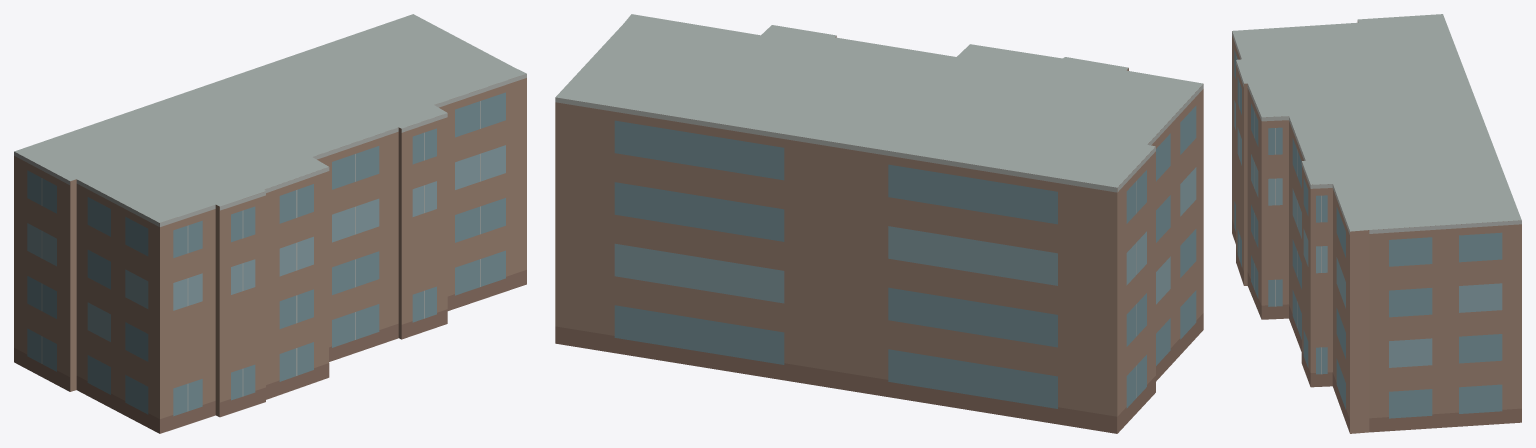
Rendered from survey-upis-32597155.glb.
3 renders of one model, left to right at view 1: azimuth 30°, elevation 25°; view 2: azimuth 150°, elevation 25°; view 3: azimuth 270°, elevation 25°, orthographic. The views are drawn at different scales.
Visible parts, largest first — view 1: survey-upis-32597155.tmp; view 2: survey-upis-32597155.tmp; view 3: survey-upis-32597155.tmp.
Part boxes in pixels (box(x1,y1,x2,y2)): survey-upis-32597155.tmp: box(14, 14, 526, 433); survey-upis-32597155.tmp: box(555, 14, 1203, 433); survey-upis-32597155.tmp: box(1232, 14, 1521, 433).
Bounding box in the file's own units: 28.13 × 12.2 × 15.84.
